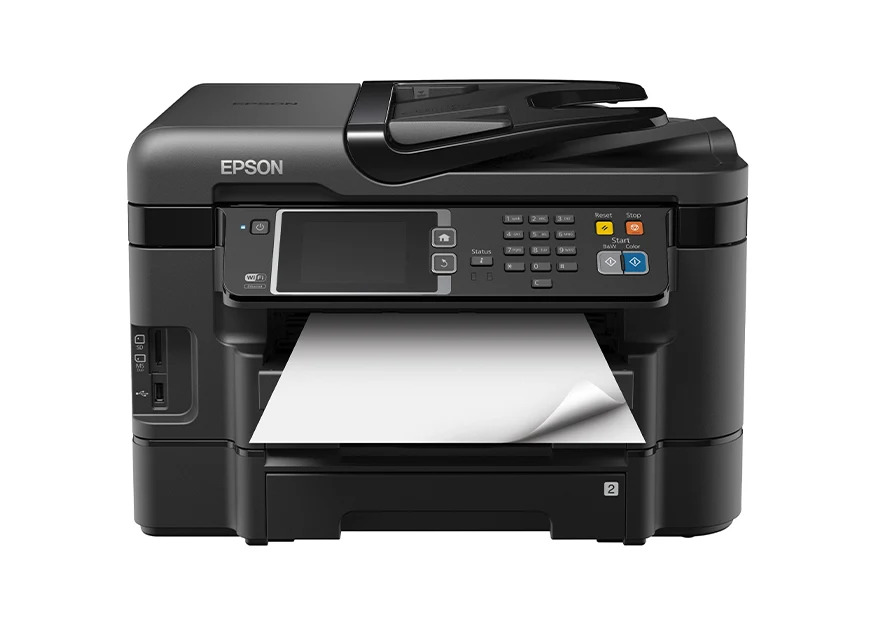printer: (124, 76, 778, 547)
